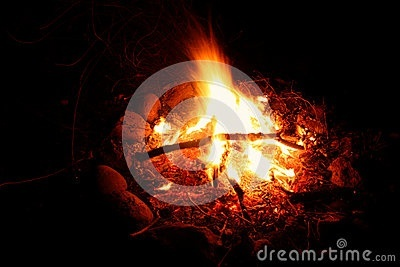fire: (158, 38, 309, 198)
